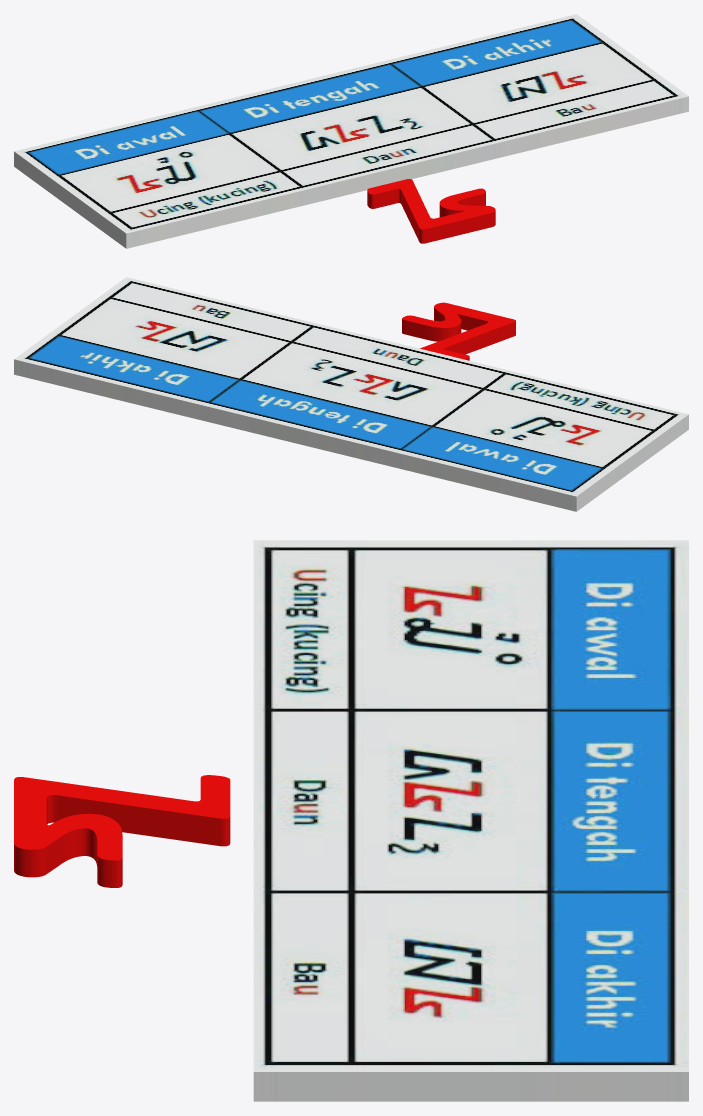
3 renders of one model, top to bottom at view 1: azimuth 30°, elevation 25°; view 2: azimuth 150°, elevation 25°; view 3: azimuth 270°, elevation 25°, orthographic. The views are drawn at different scales.
Visible parts, largest first — view 1: contoh-bunyi-huruf-u-Swara-vokal-mandiri, Text; view 2: contoh-bunyi-huruf-u-Swara-vokal-mandiri, Text; view 3: contoh-bunyi-huruf-u-Swara-vokal-mandiri, Text.
Boxes of the visible parts, x1,y1,x2,y2 form: contoh-bunyi-huruf-u-Swara-vokal-mandiri: (14,14,688,248); Text: (367,179,495,243); contoh-bunyi-huruf-u-Swara-vokal-mandiri: (14,277,688,511); Text: (402,302,515,360); contoh-bunyi-huruf-u-Swara-vokal-mandiri: (253,540,688,1101); Text: (14,775,230,887).
Bounding box in the file's own units: 2.89 × 0.11 × 1.55.
2 materials, 1 textured.
